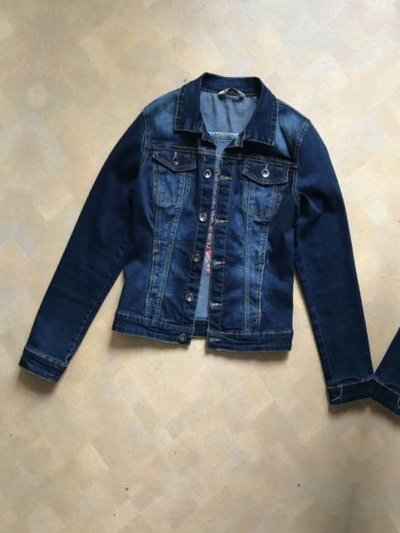Blazer: (0, 42, 400, 452), (0, 0, 41, 388), (363, 105, 400, 516)
